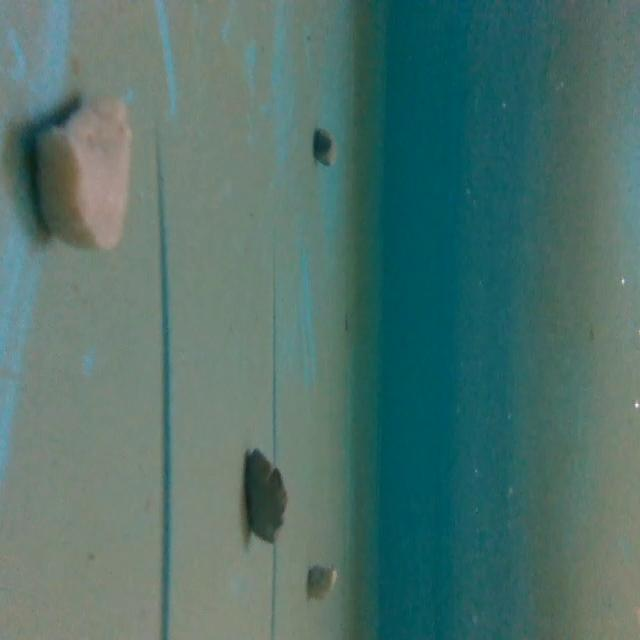rock: (32, 95, 140, 254), (242, 444, 291, 545), (302, 560, 339, 602), (311, 126, 336, 169)
